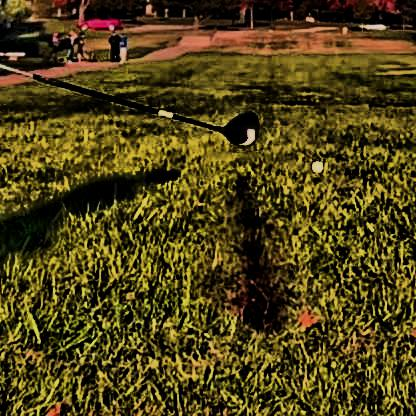golfball: (307, 156, 321, 171)
